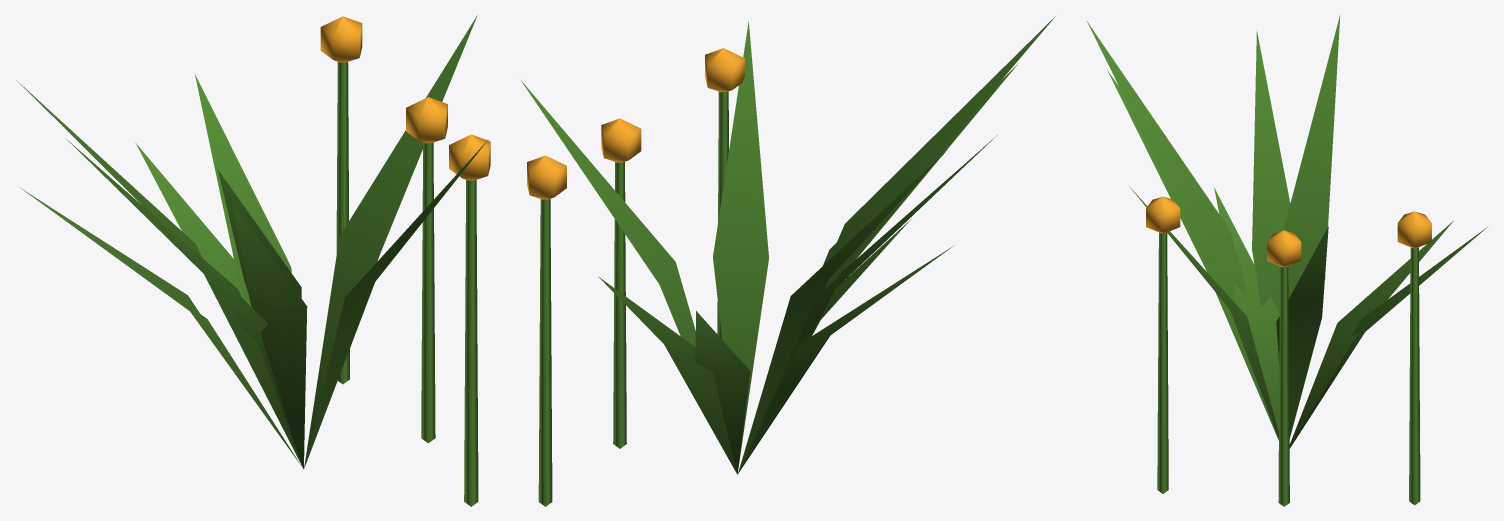
The model's file is tuft-2.glb.
3 views of the same model, side by side, from view 1: azimuth 30°, elevation 25°; view 2: azimuth 150°, elevation 25°; view 3: azimuth 270°, elevation 25° (orthographic). The views are drawn at different scales.
Parts seen in each view (by area): view 1: tuft-2; view 2: tuft-2; view 3: tuft-2.
Part boxes in pixels (box(x1,y1,x2,y2)): tuft-2: box(16, 15, 490, 506); tuft-2: box(521, 16, 1055, 506); tuft-2: box(1087, 15, 1487, 506).
Size of the model in its own units: 0.4481 by 0.4133 by 0.4273.
